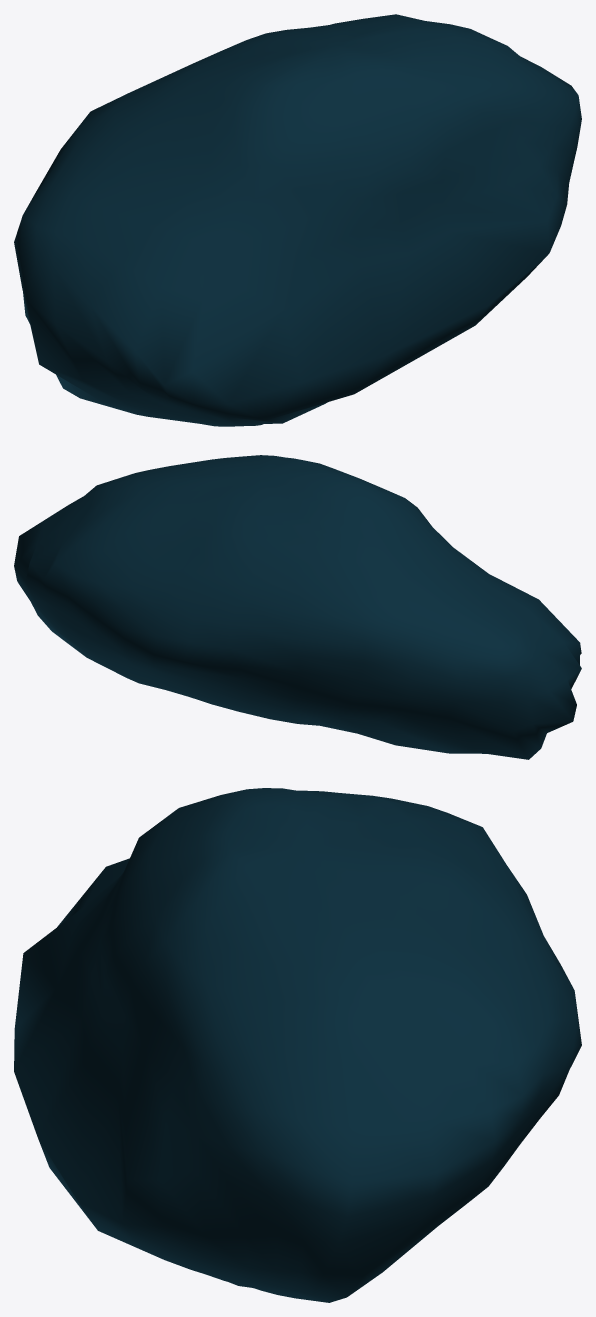
The model's file is rocaazul.glb.
The picture shows the model from 3 angles, top to bottom: view 1: azimuth 30°, elevation 25°; view 2: azimuth 150°, elevation 25°; view 3: azimuth 270°, elevation 25°; orthographic projection. The views are drawn at different scales.
Parts seen in each view (by area): view 1: Esfera.003; view 2: Esfera.003; view 3: Esfera.003.
Part boxes in pixels (box(x1,y1,x2,y2)): Esfera.003: box(14, 14, 581, 426); Esfera.003: box(14, 455, 581, 759); Esfera.003: box(14, 788, 581, 1302).
Bounding box in the file's own units: 6.61 × 3.25 × 4.03.
